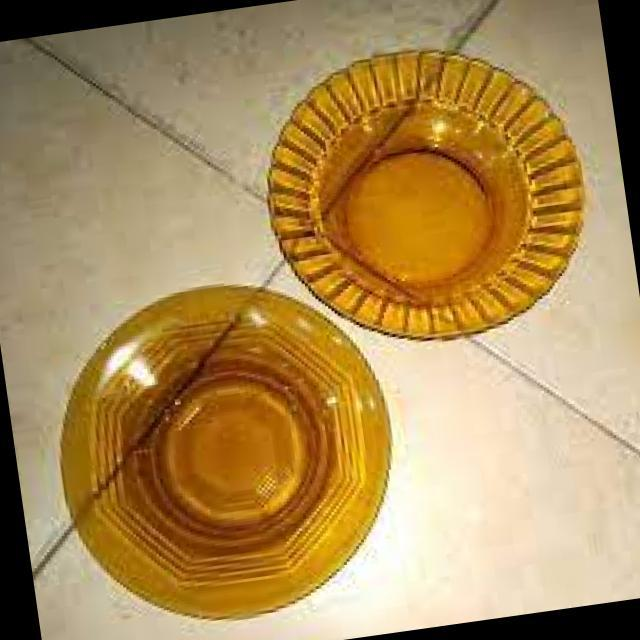plate: (64, 289, 394, 624), (270, 50, 583, 337)
